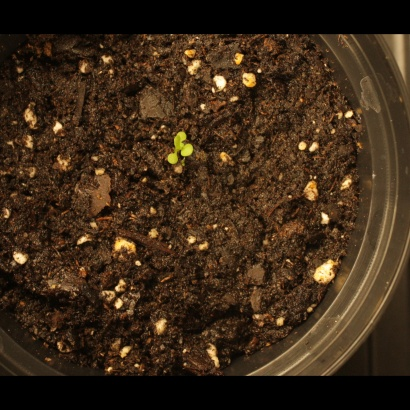leaf: (160, 149, 183, 172), (181, 144, 204, 167), (169, 127, 192, 150)
